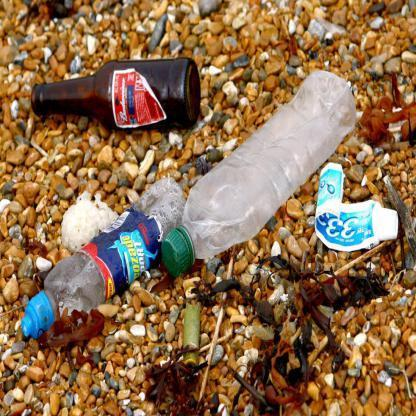plastic bottle: (161, 69, 357, 276), (20, 176, 186, 338)
